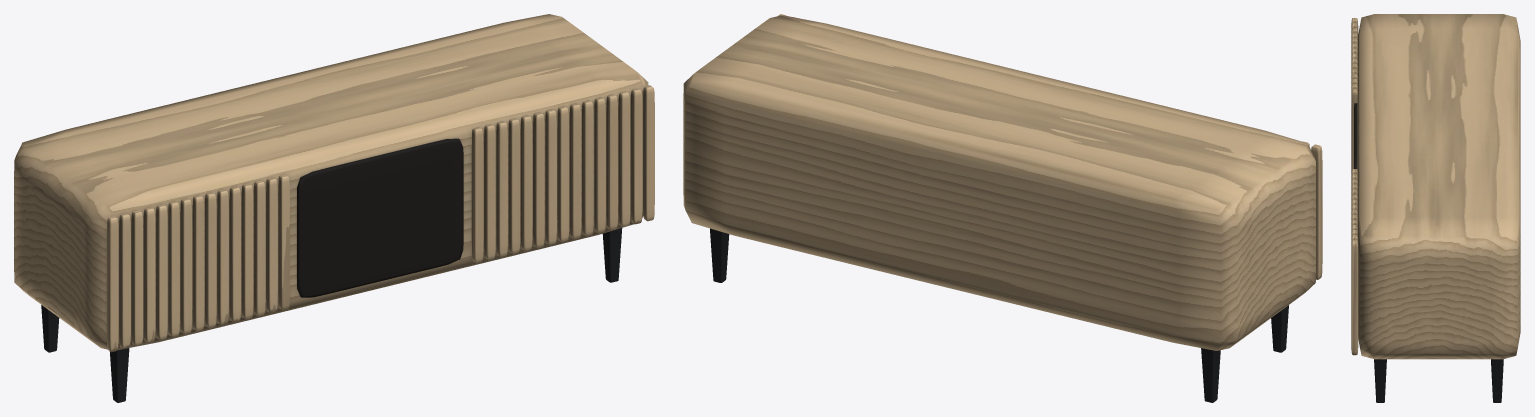
The model's file is ash-metal-legs.glb.
3 views of the same model, side by side, from view 1: azimuth 30°, elevation 25°; view 2: azimuth 150°, elevation 25°; view 3: azimuth 270°, elevation 25° (orthographic). The views are drawn at different scales.
Parts seen in each view (by area): view 1: wood_x, wood_v, shelf_inner, metal_frame; view 2: wood_x, metal_frame, wood_v; view 3: wood_x, wood_v, metal_frame, shelf_inner.
Part boxes in pixels (left/top/right/bottom): wood_x: left=14, top=14, right=648, bottom=350; wood_v: left=106, top=85, right=654, bottom=352; shelf_inner: left=297, top=138, right=463, bottom=297; metal_frame: left=41, top=228, right=622, bottom=402; wood_x: left=683, top=15, right=1315, bottom=350; metal_frame: left=710, top=228, right=1288, bottom=402; wood_v: left=778, top=14, right=1322, bottom=279; wood_x: left=1357, top=14, right=1520, bottom=359; wood_v: left=1351, top=18, right=1358, bottom=355; metal_frame: left=1374, top=359, right=1503, bottom=402; shelf_inner: left=1354, top=103, right=1357, bottom=168.
Bounding box in the file's own units: 1.4 × 0.5 × 0.435.
4 materials, 3 textured.
